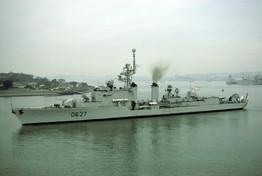warship: (11, 40, 253, 127)
